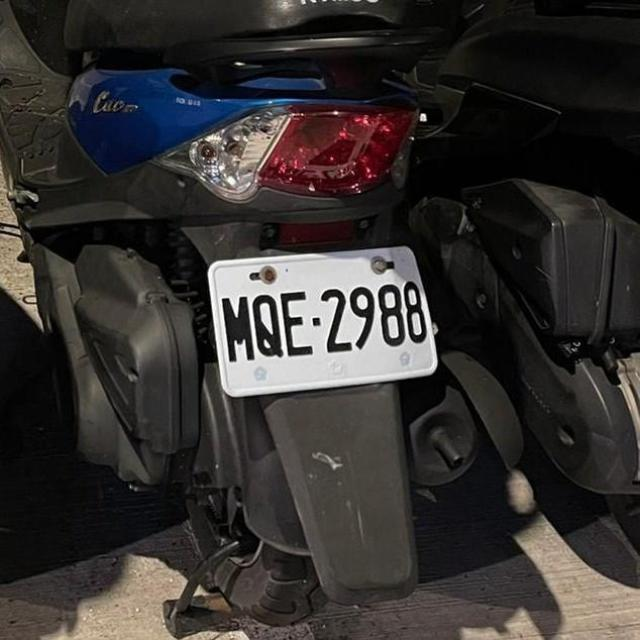W: (202, 235, 440, 401)
